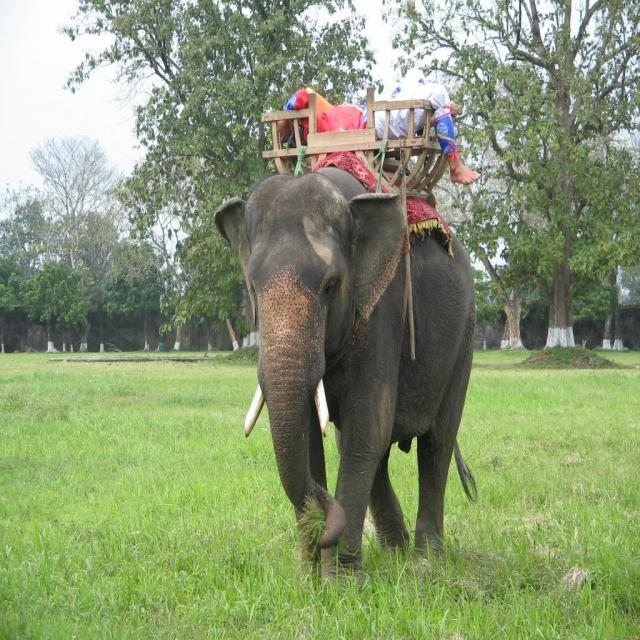Elephant: (212, 167, 478, 592)
